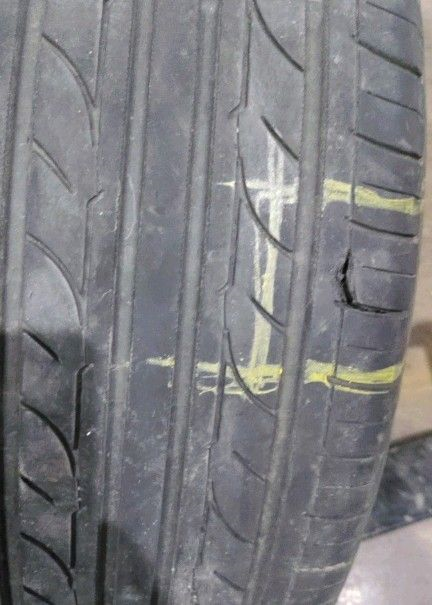tr: (334, 239, 412, 321)
